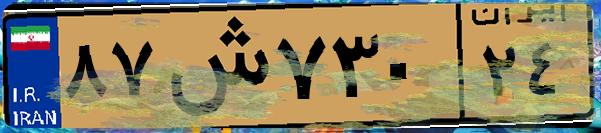0: (385, 28, 445, 110)
2: (475, 38, 525, 113)
3: (330, 28, 385, 110)
4: (525, 38, 570, 115)
7: (270, 28, 330, 110), (110, 28, 158, 98)
8: (57, 26, 110, 100)
ش: (158, 12, 270, 120)
